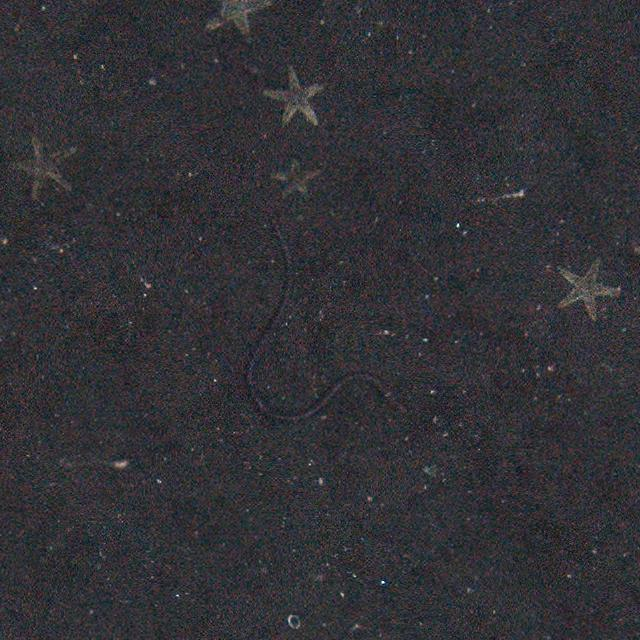eel: (246, 227, 408, 423)
